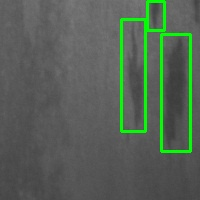inclusion: (161, 34, 190, 151), (121, 20, 145, 131), (147, 1, 164, 30)
